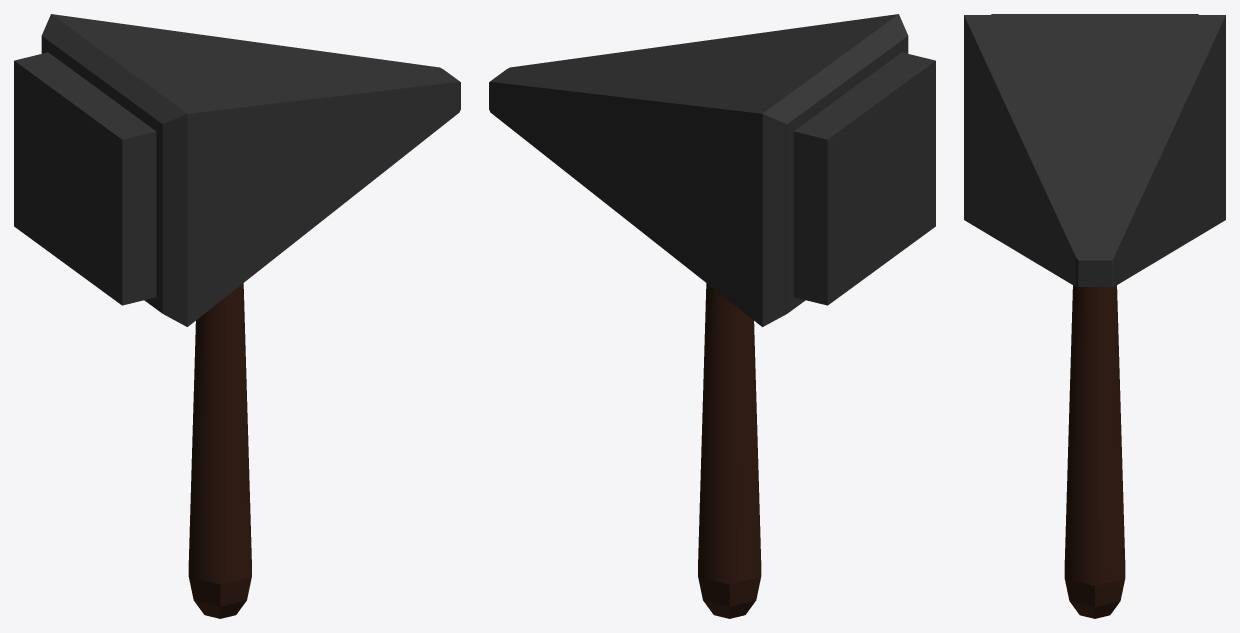
The model's file is SM_hammer_blacksmith_03.fbx.
3 views of the same model, side by side, from view 1: azimuth 30°, elevation 25°; view 2: azimuth 150°, elevation 25°; view 3: azimuth 270°, elevation 25° (orthographic). The views are drawn at different scales.
Parts seen in each view (by area): view 1: Object528; view 2: Object528; view 3: Object528.
Boxes of the visible parts, left/top/right/bottom form: Object528: left=14, top=14, right=460, bottom=618; Object528: left=489, top=14, right=935, bottom=618; Object528: left=964, top=14, right=1225, bottom=618.
Size of the model in its own units: 15.99 by 22.77 by 9.84.
